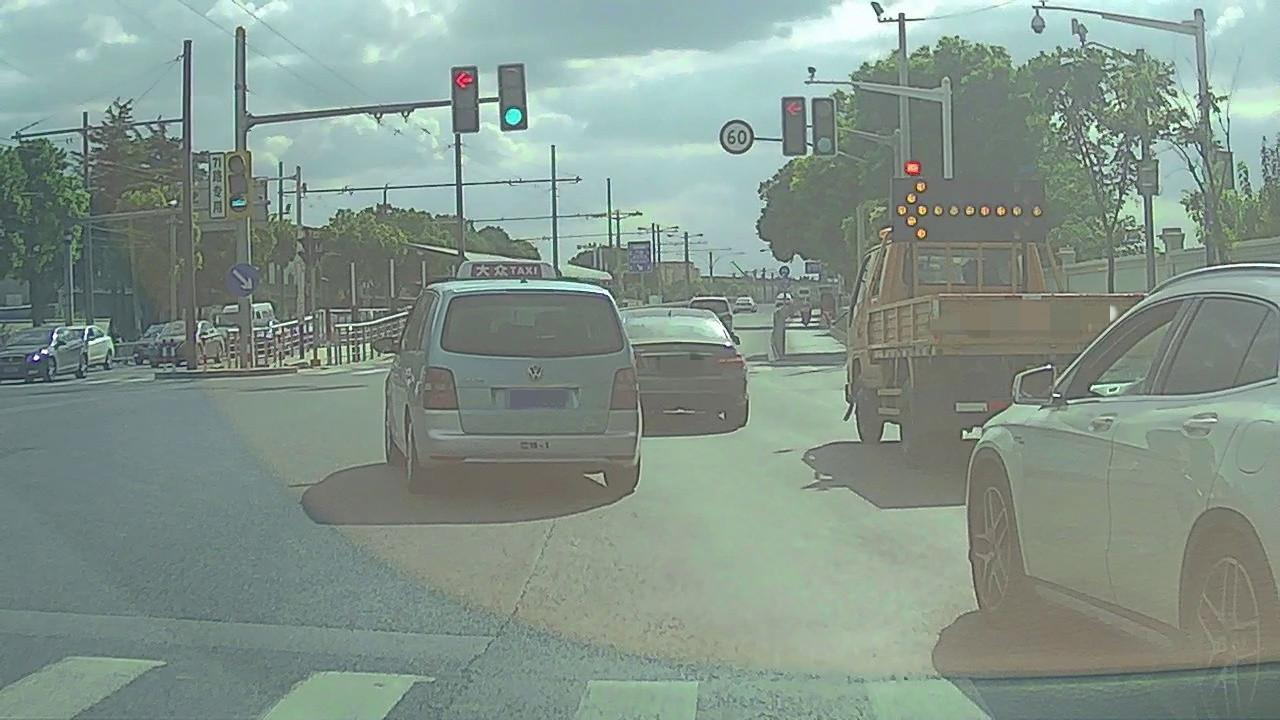traffic_light: (500, 66, 528, 130), (453, 65, 479, 130), (777, 97, 804, 155), (813, 100, 836, 157)
